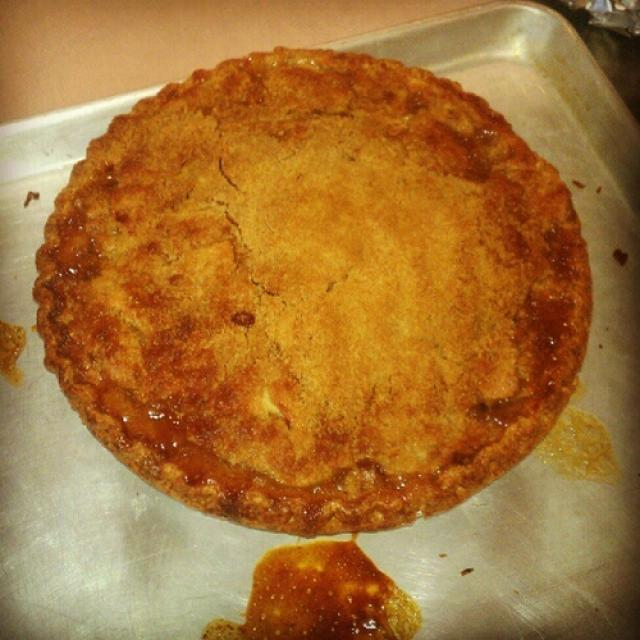Apple: (40, 47, 586, 525)
